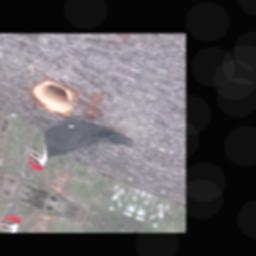Woodpecker: (17, 88, 143, 201)
